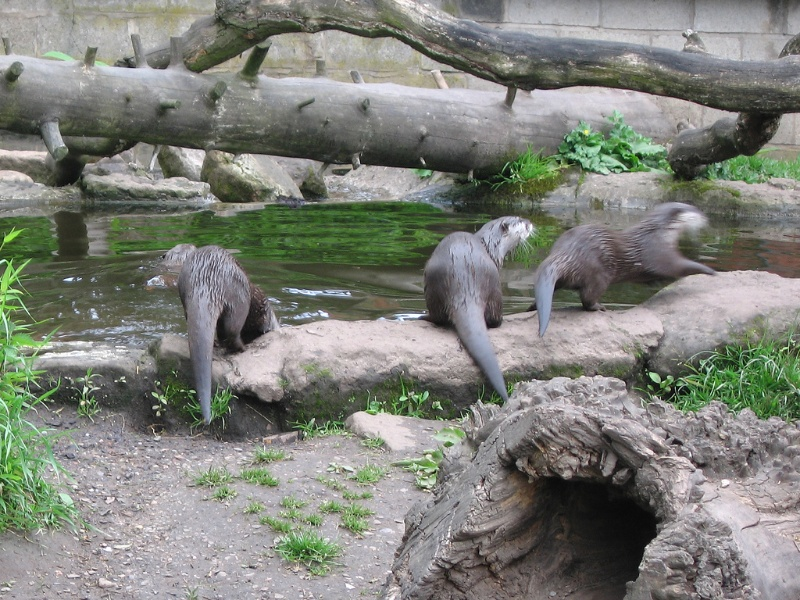minkish: (531, 198, 713, 351), (424, 213, 539, 400), (166, 239, 262, 426)
